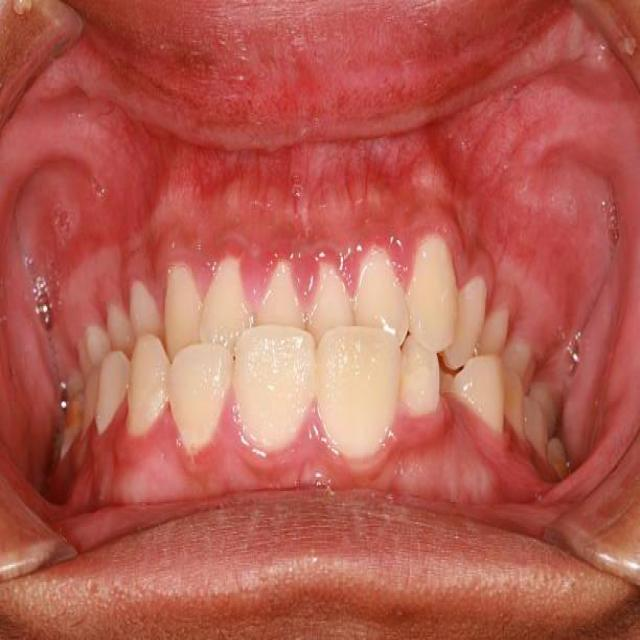swelling: (236, 246, 276, 319), (290, 251, 322, 320), (336, 247, 364, 304)
